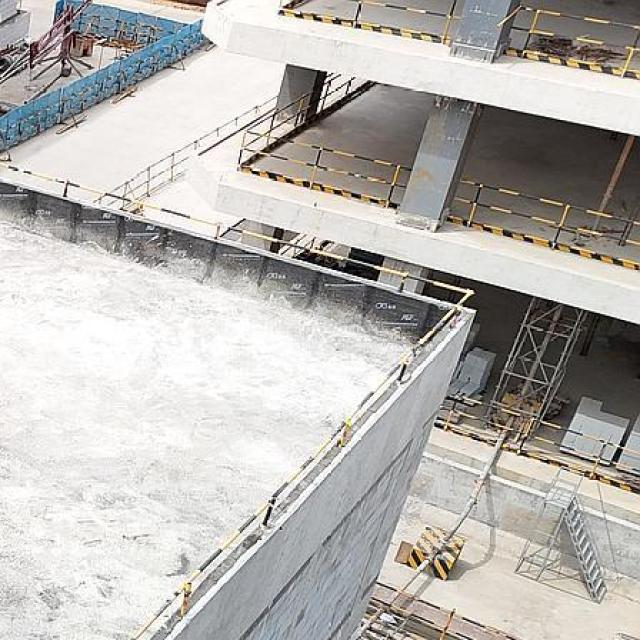Guardrail: (0, 160, 476, 640), (235, 72, 414, 209), (434, 389, 640, 495), (444, 177, 640, 269), (505, 4, 640, 79), (279, 0, 462, 44)
